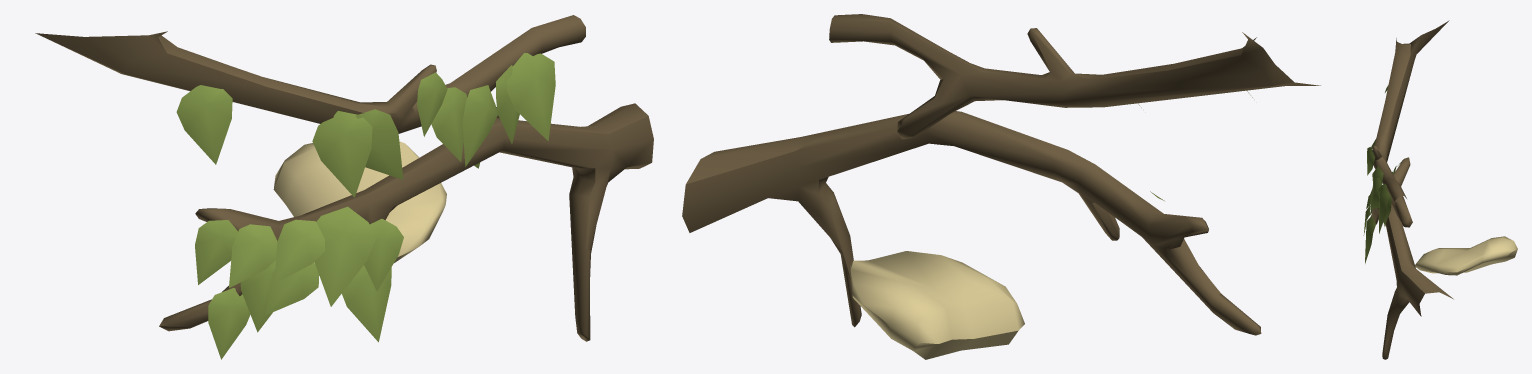
Rendered from vines_b.glb.
3 renders of one model, left to right at view 1: azimuth 30°, elevation 25°; view 2: azimuth 150°, elevation 25°; view 3: azimuth 270°, elevation 25°, orthographic. The views are drawn at different scales.
Visible parts, largest first — view 1: Vines; view 2: Vines; view 3: Vines.
Boxes of the visible parts, x1,y1,x2,y2 form: Vines: (35, 15, 653, 359); Vines: (682, 14, 1320, 359); Vines: (1363, 20, 1517, 359).
Size of the model in its own units: 2.46 by 1.54 by 1.02.
Materials: 1 (1 with a texture image).
